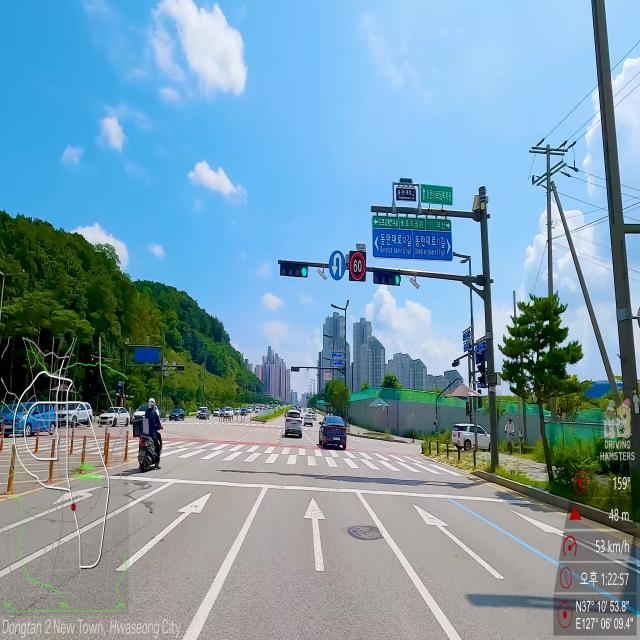Green Light: (301, 265, 307, 277), (394, 274, 400, 285)
